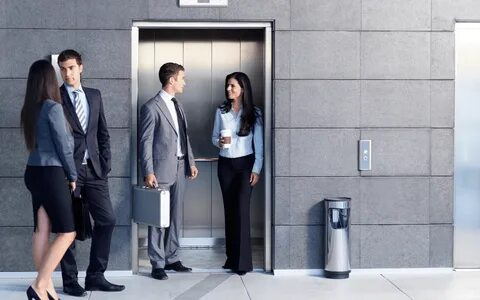awake: (56, 49, 117, 297), (20, 59, 78, 300), (138, 62, 198, 281), (211, 71, 264, 275)
